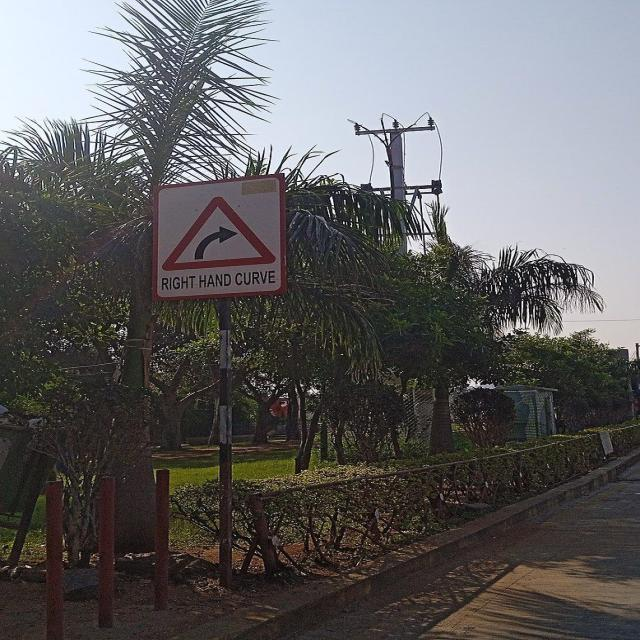right hand curve: (160, 195, 278, 272)
